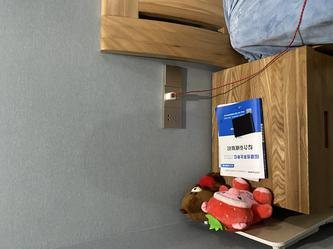switch: (164, 68, 185, 84)
